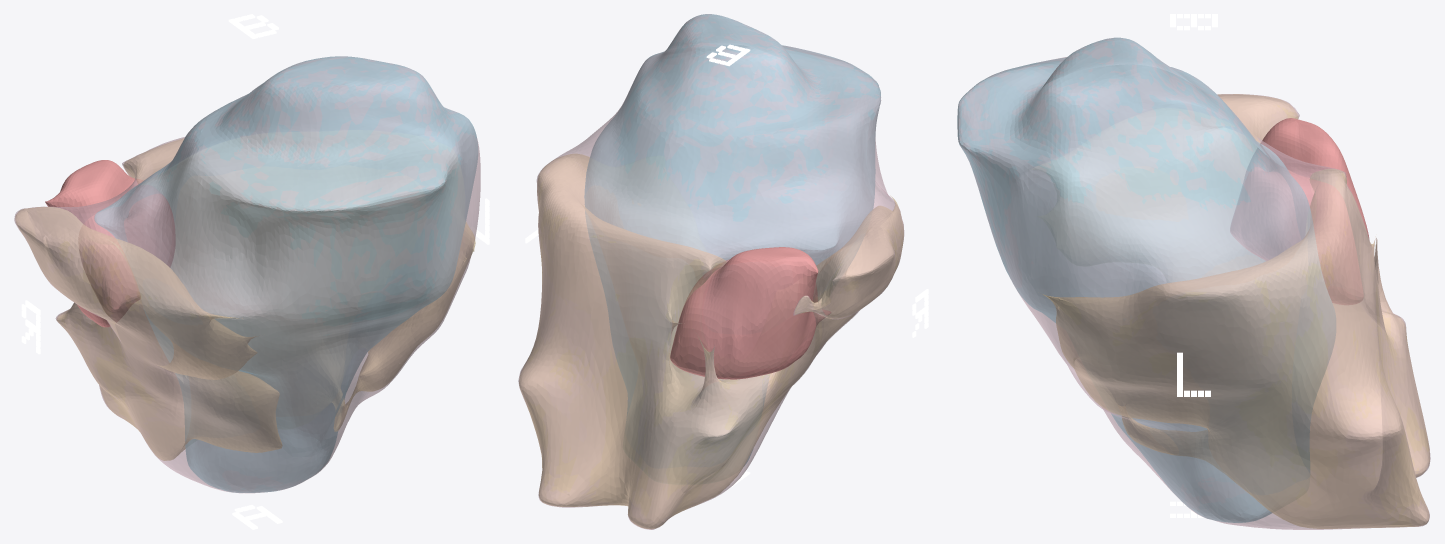
3 views of the same model, side by side, from view 1: azimuth 30°, elevation 25°; view 2: azimuth 150°, elevation 25°; view 3: azimuth 270°, elevation 25° (orthographic). The views are drawn at different scales.
Parts seen in each view (by area): view 1: prostate_gland, transition_zone, peripheral_zone, lesion_01, pv_ar_marker_B, pv_ar_marker_R; view 2: prostate_gland, peripheral_zone, transition_zone, lesion_01; view 3: prostate_gland, transition_zone, peripheral_zone, lesion_01.
Part boxes in pixels (x1,y1,x2,y2): prostate_gland: (14,56,480,493); transition_zone: (94,56,477,492); peripheral_zone: (15,138,475,460); lesion_01: (45,160,175,327); pv_ar_marker_B: (228,14,278,38); pv_ar_marker_R: (21,300,40,354); prostate_gland: (518,14,904,529); peripheral_zone: (519,154,903,528); transition_zone: (584,14,880,465); lesion_01: (670,247,830,379); prostate_gland: (957,38,1430,529); transition_zone: (957,37,1335,522); peripheral_zone: (1043,94,1429,528); lesion_01: (1230,118,1369,304).
Bounding box in the file's own units: 0.0504 × 0.0527 × 0.0462.
